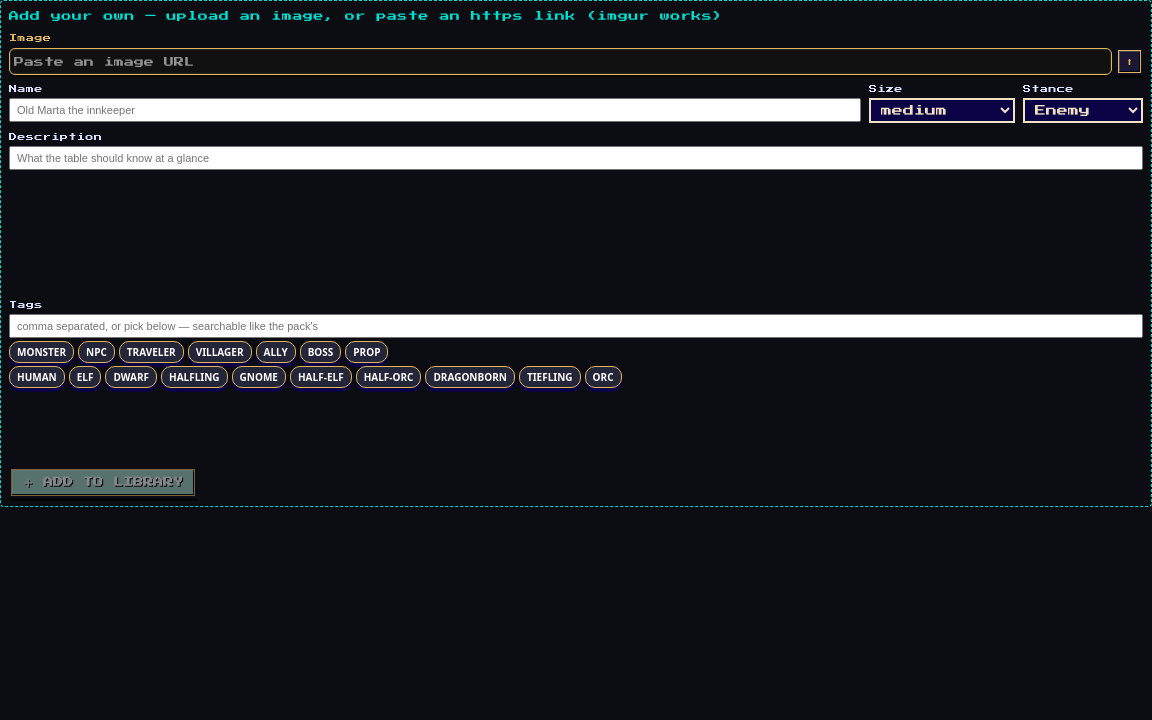
Scenario: CustomTokenForm › a chip toggles its tag on and off, and a chosen tag has its own remover
Click the button "monster" at (42, 352), box [9,341,74,363]
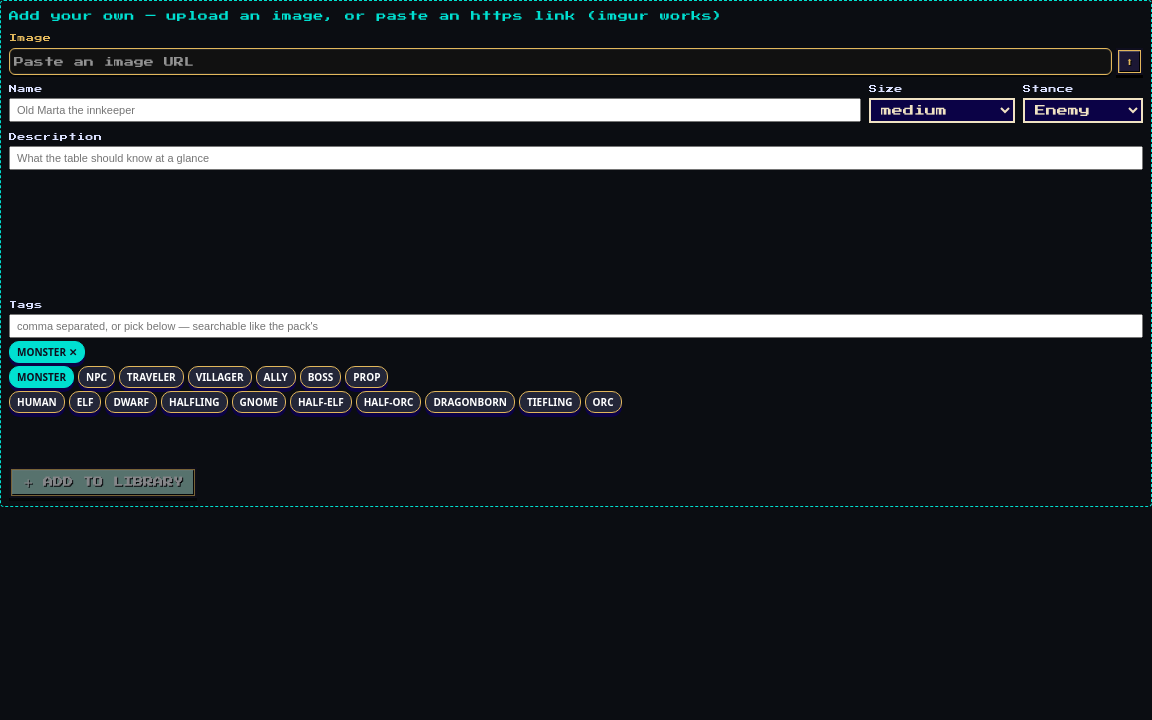
Now the button "monster ✕" is shown
Click the button "monster ✕" at (47, 352), box [9,341,85,363]
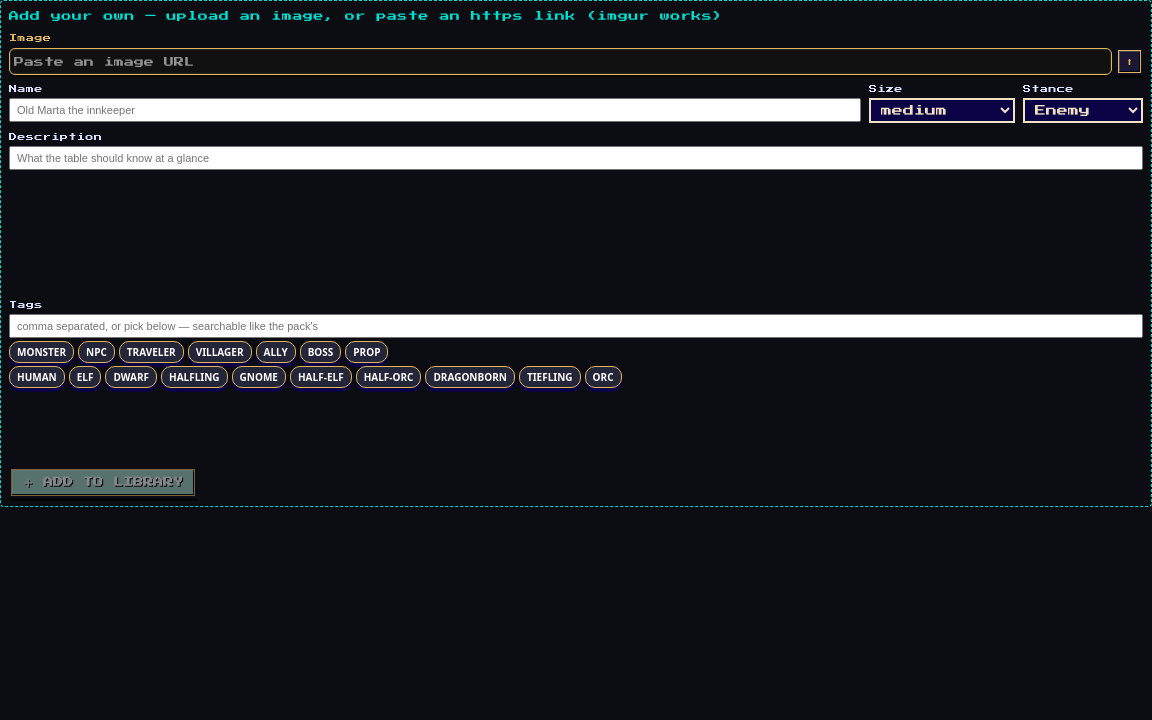
Now the button "monster" is not pressed
Click the button "monster" at (42, 352), box [9,341,74,363]
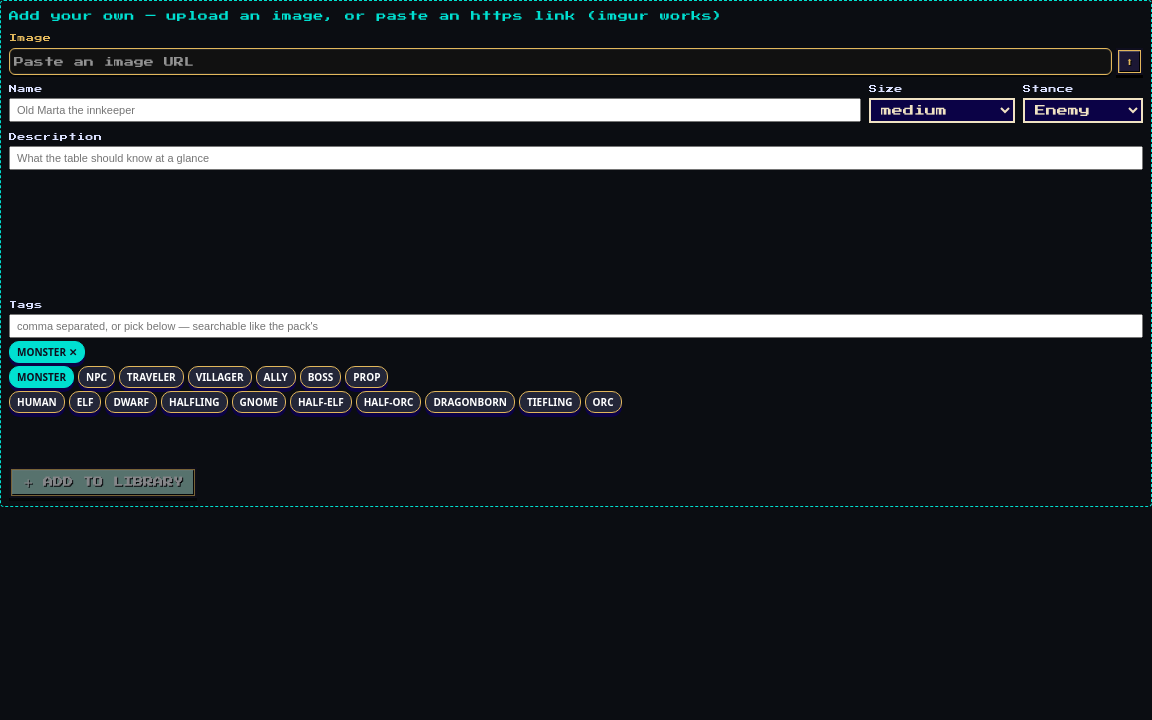
Click the button "monster" at (42, 377), box [9,366,74,388]
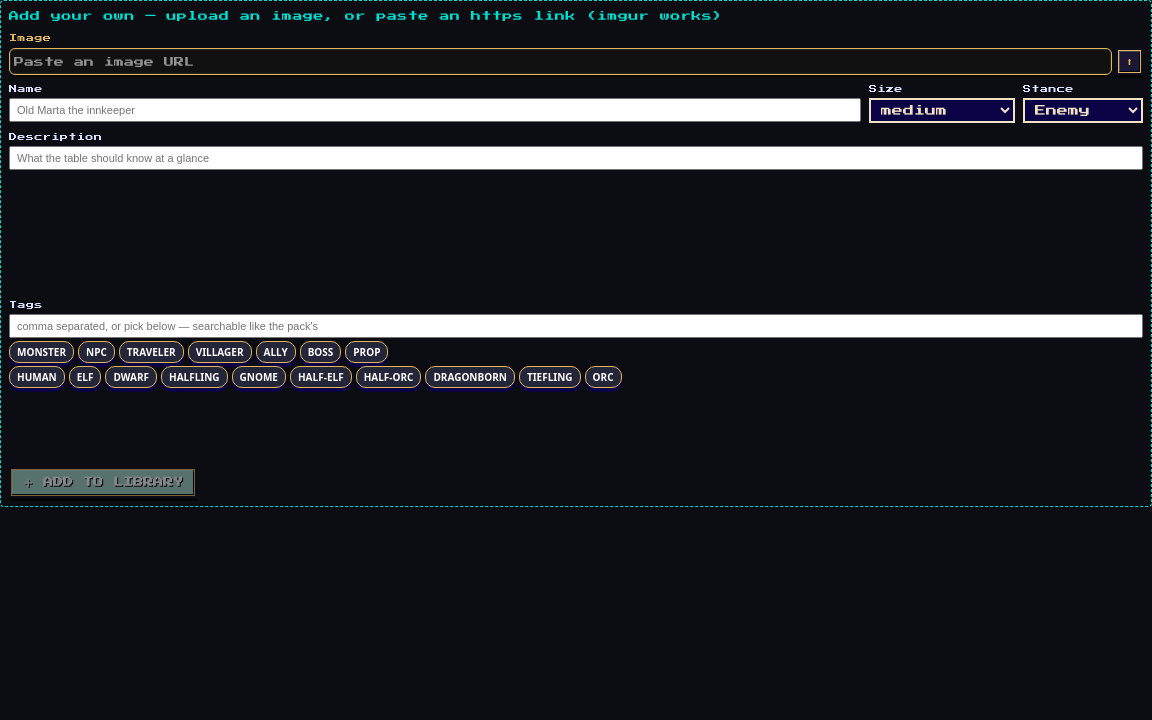
Now the button "monster ✕" is gone
